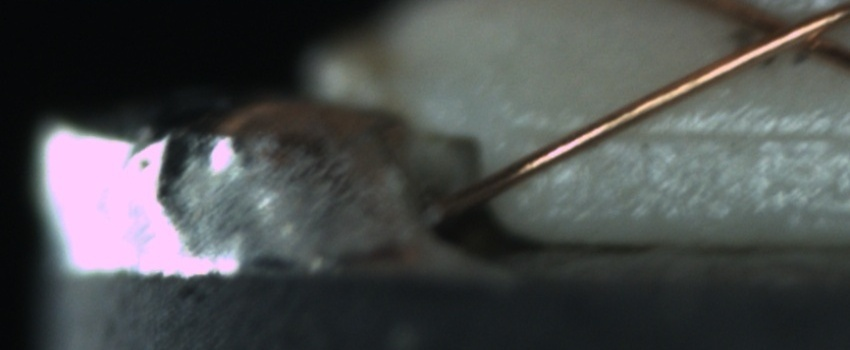CL: (723, 2, 850, 66)
DL: (561, 101, 846, 163)
